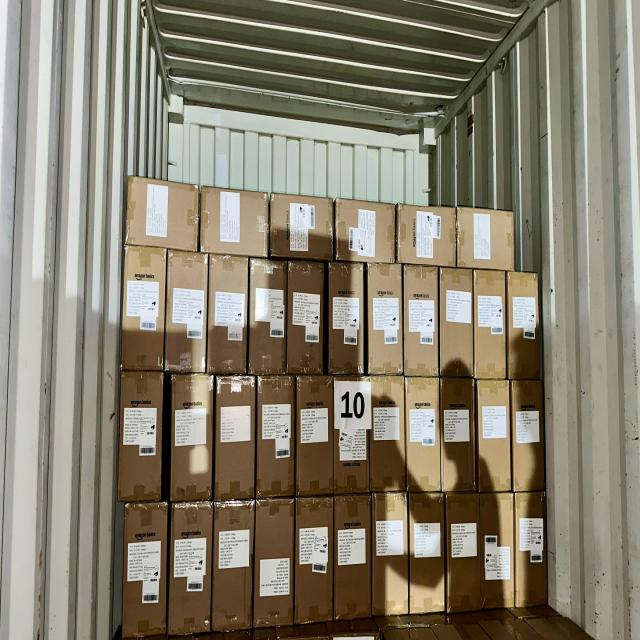Carton: (124, 502, 168, 636), (118, 372, 163, 502), (172, 505, 215, 635), (122, 250, 166, 374), (126, 177, 200, 250), (175, 376, 216, 503), (214, 377, 255, 504), (213, 506, 253, 635), (168, 251, 210, 373), (257, 503, 296, 631), (208, 253, 248, 374), (199, 191, 269, 260), (294, 501, 332, 627), (259, 376, 297, 500), (371, 494, 408, 619), (294, 374, 332, 495), (335, 498, 372, 622), (250, 260, 288, 374), (409, 496, 445, 616), (334, 376, 370, 496), (406, 375, 443, 491), (269, 193, 334, 259), (368, 374, 404, 491), (365, 264, 402, 375), (449, 496, 483, 616), (476, 380, 512, 493), (330, 263, 366, 375), (287, 263, 323, 375), (404, 264, 440, 375), (334, 199, 395, 262), (510, 380, 544, 493), (505, 273, 540, 382), (482, 496, 514, 614), (457, 207, 516, 271), (440, 379, 473, 493), (514, 494, 545, 614), (438, 268, 472, 377), (399, 205, 459, 266), (475, 269, 508, 378)
